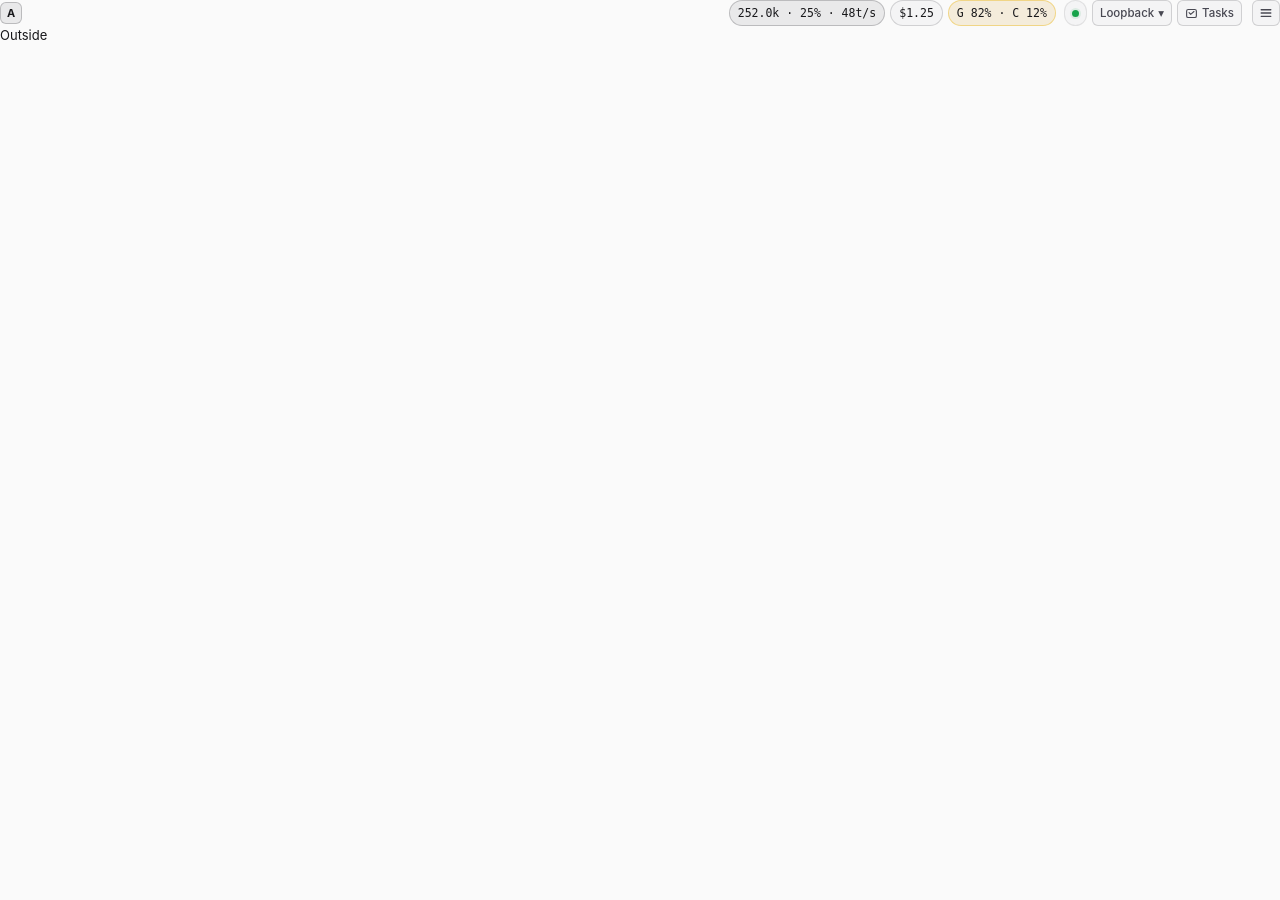
Test: TopbarCapsules popovers & MobileQrPopover › opens Usage popover with period summary cards, model breakdown, and daily activity
Click the button "Usage".
click(916, 13)  # box [890,0,943,26]
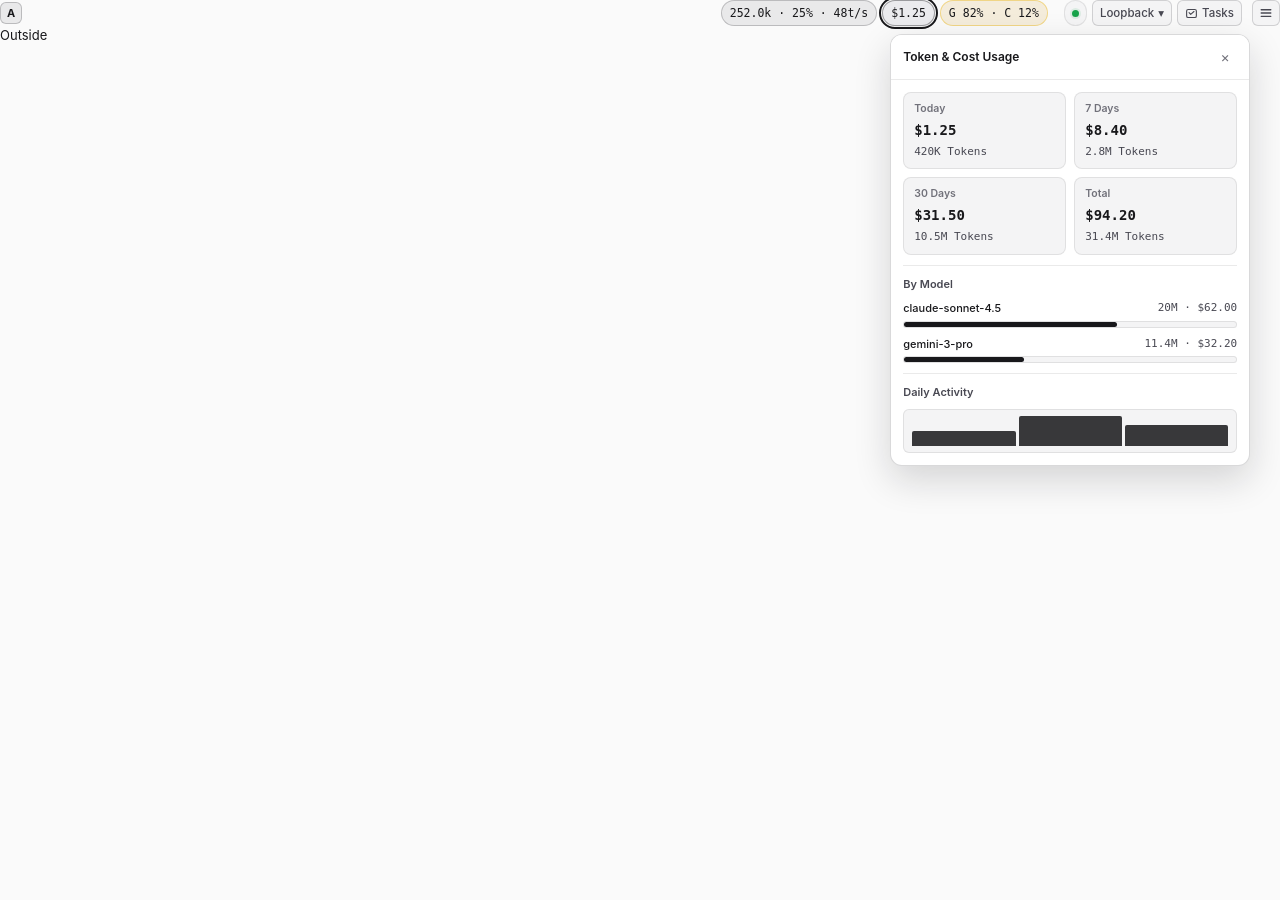
Now the dialog with test id "topbar-popover-usage" is shown, box [890,34,1250,466]
Now the element with test id "usage-card-today" shows "$1.25", box [914,122,956,138]
Now the element with test id "usage-card-today" shows "420K", box [914,145,941,158]
